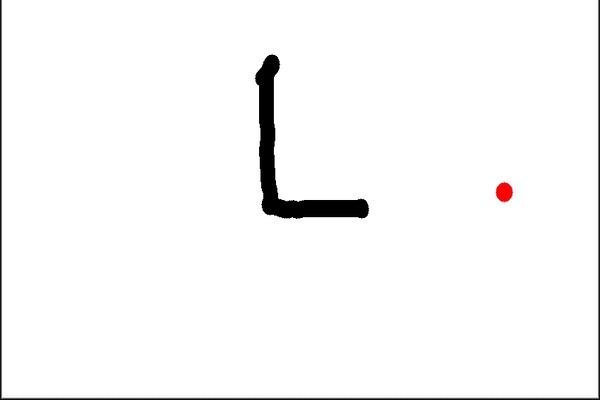L: (244, 45, 379, 230)
